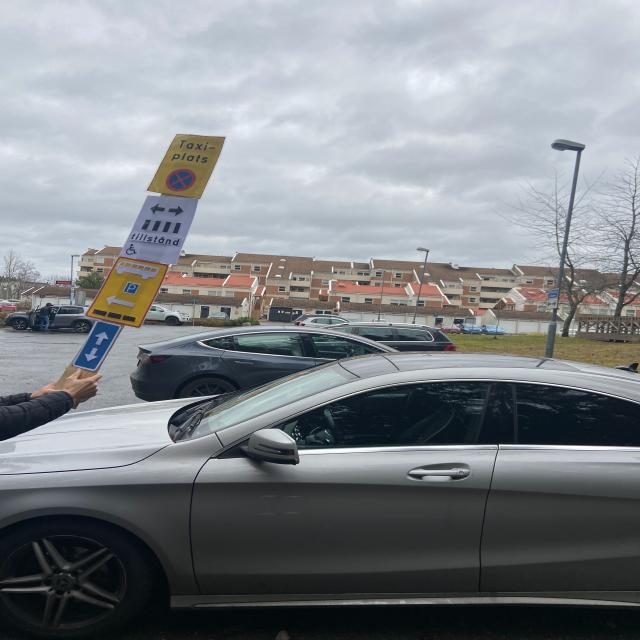lastplats: (142, 129, 228, 200)
